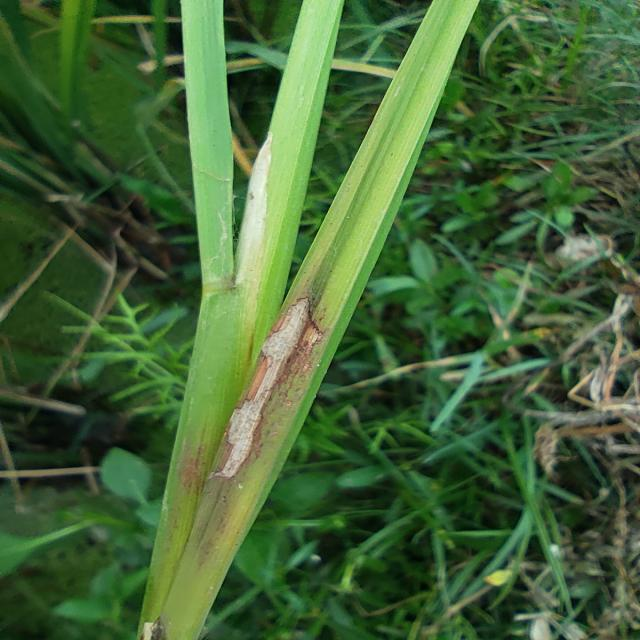Leaf_Blast: (208, 295, 325, 482)
